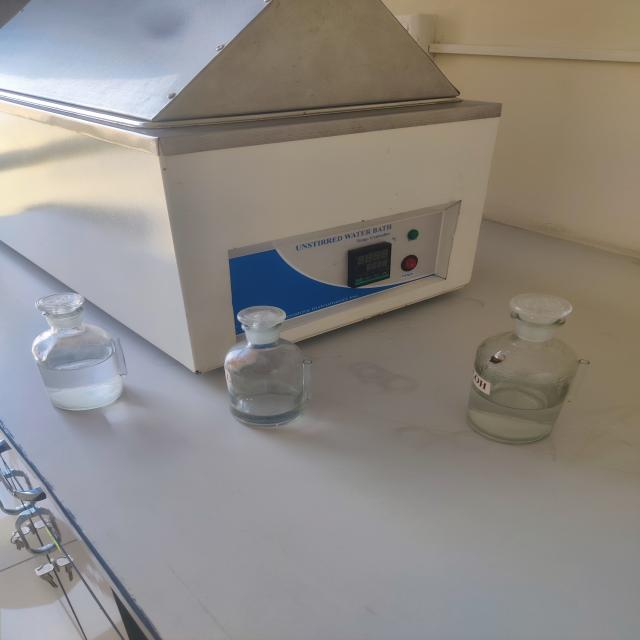Reagent_Bottle: (429, 275, 635, 463), (0, 276, 149, 438), (194, 282, 328, 449)
